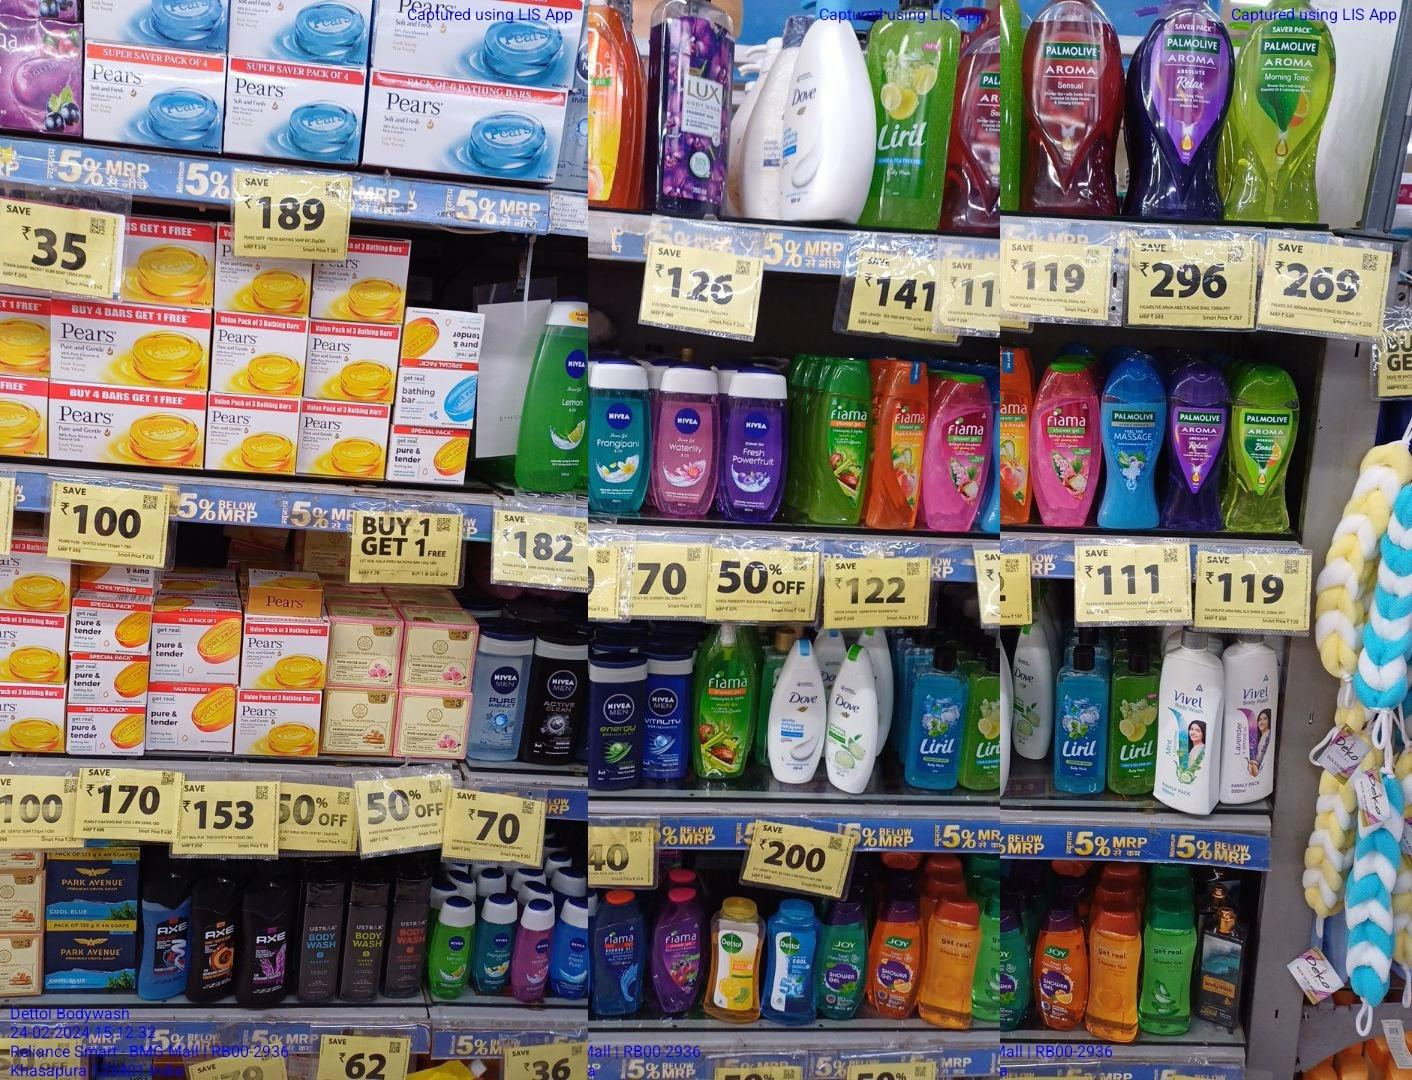Dettol_Bodywash_Cool: (764, 900, 817, 1023)
Dettol_Bodywash_Refresh: (704, 900, 760, 1022)
Dove_Gentle_Exfoliating_Body_Wash_250ML: (770, 643, 826, 784)
Dove_Refreshing_Body_Wash_250ML: (827, 649, 877, 794), (1013, 625, 1050, 760)
Fiama_Shower_Gel_Lemongrass_and_Jojoba_250ML: (813, 360, 870, 523)
Fiama_Shower_Gel_Patchouli_and_Macadamia_250ML: (1031, 358, 1100, 524), (935, 372, 991, 531)
Fiama_Shower_Gel_Peach_and_Avocado_250ML: (874, 361, 929, 526)
Get_Real_Shower_Gel_Moisturising_Glycerin_300ML: (1091, 906, 1139, 1045), (927, 900, 976, 1028)
Joy_Shower_Gel_Mandarin_and_Lemongrass_250ML: (1034, 912, 1087, 1030), (874, 901, 921, 1016)
Joy_Shower_Gel_Mint_and_Eucalyptus_250ML: (822, 898, 869, 1022), (1000, 911, 1030, 1036)
Liril_Cooling_Mint_Body_Wash_250ML: (1052, 651, 1110, 794), (905, 647, 961, 787)
Liril_Lime_and_Tea_Tree_Oil_Body_Wash_250ML: (1115, 651, 1155, 795)
Nivea_Shower_Gel_Frangipani_and_Oil_250ML: (593, 365, 648, 508), (477, 897, 515, 997)
Nivea_Shower_Gel_Fresh_Powerfruit_250ML: (728, 370, 784, 520)
Nivea_Shower_Gel_Lemon_and_Oil_250ML: (516, 299, 589, 486), (426, 902, 474, 998)
Nivea_Shower_Gel_Waterlily_and_Oil_250ML: (653, 368, 722, 514), (517, 901, 552, 1002)
Palmolive_Aroma_Moments_Feel_The_Massage_Shower_Gel_250ML: (1104, 357, 1166, 526)
Palmolive_Aroma_Relax_250ML: (1169, 365, 1220, 529)
